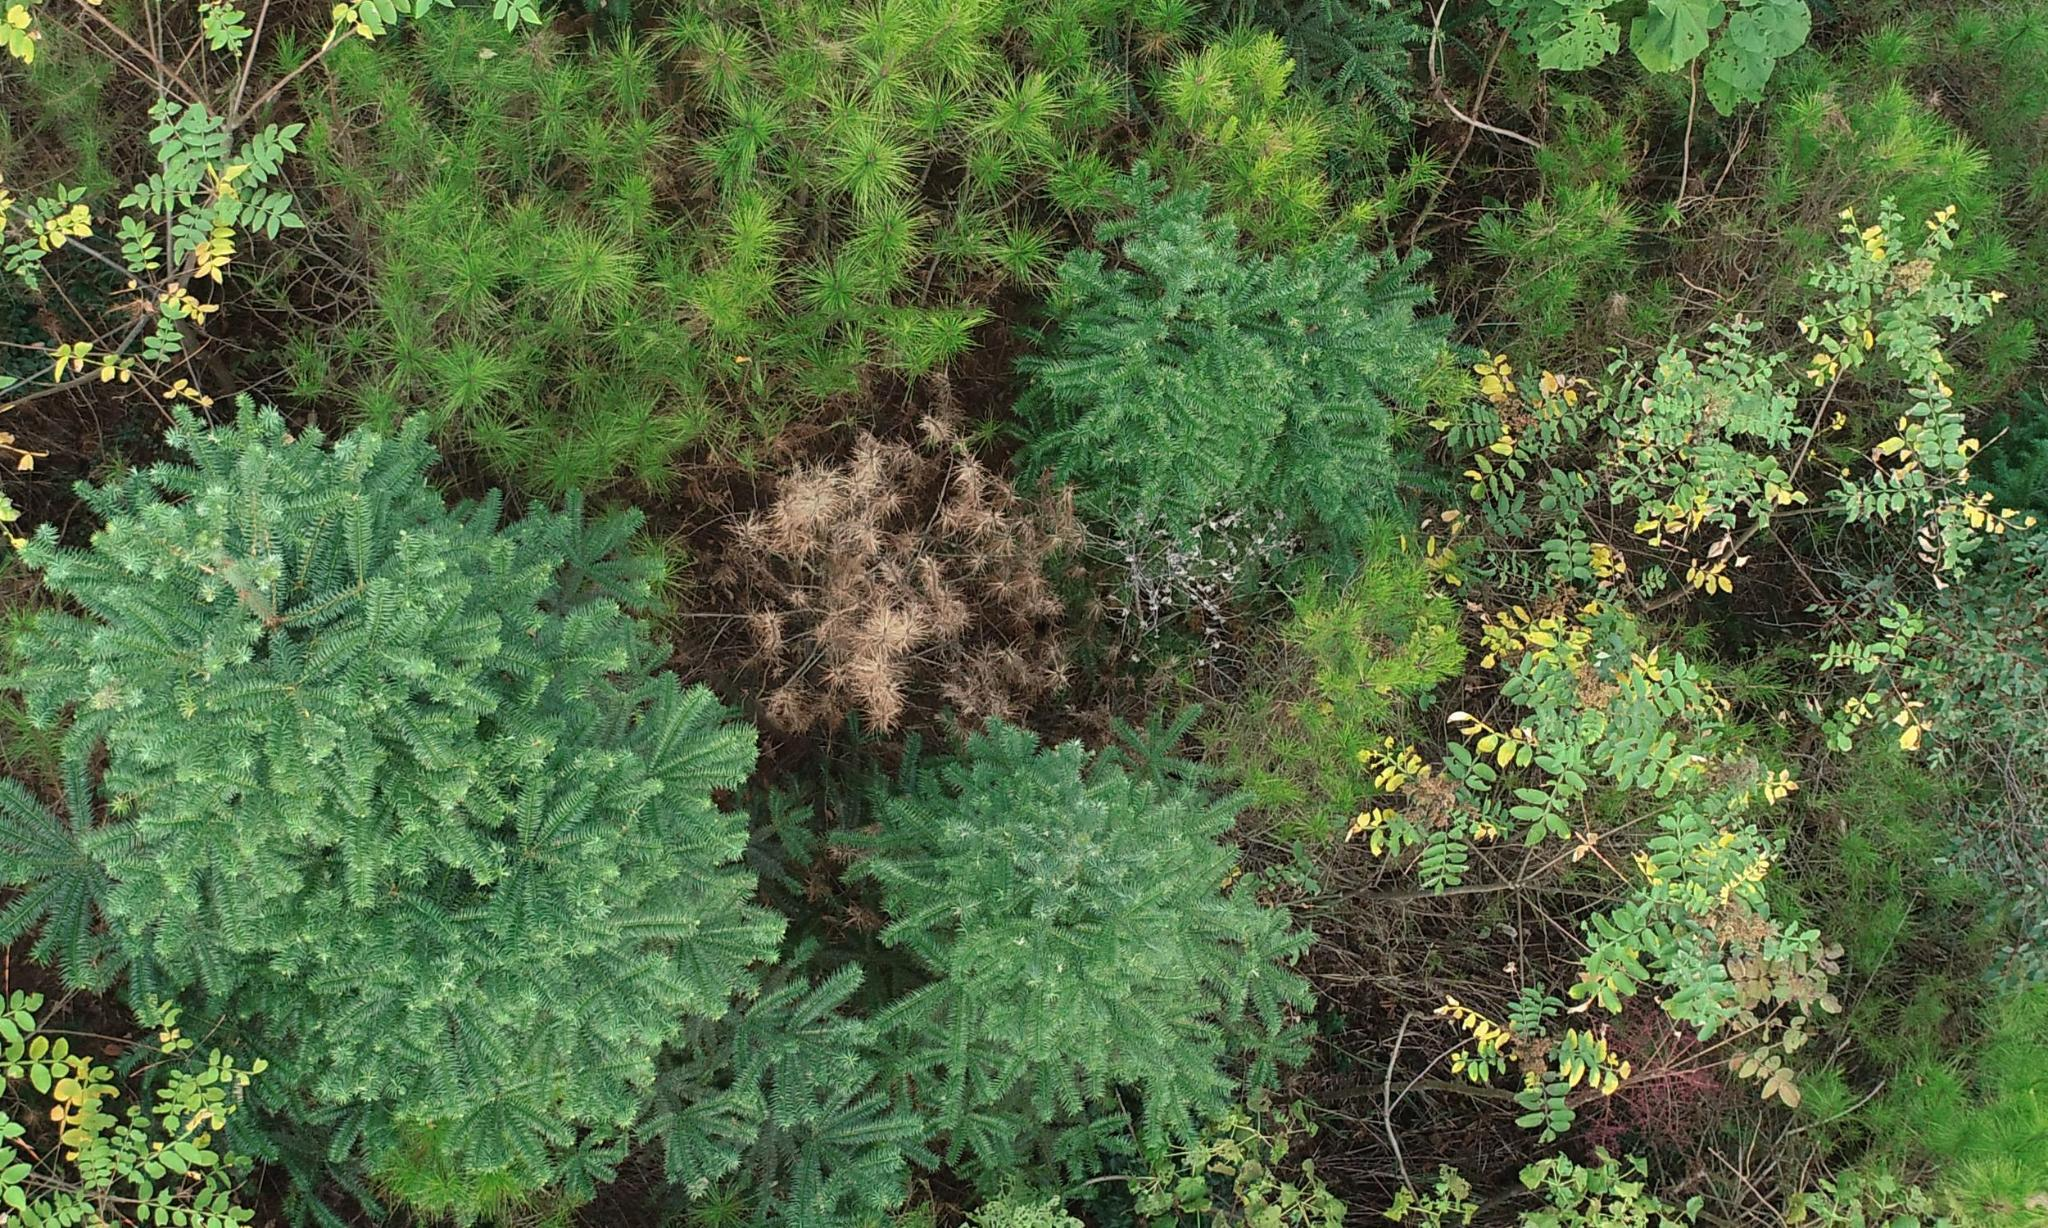heavy: (716, 408, 1072, 727)
